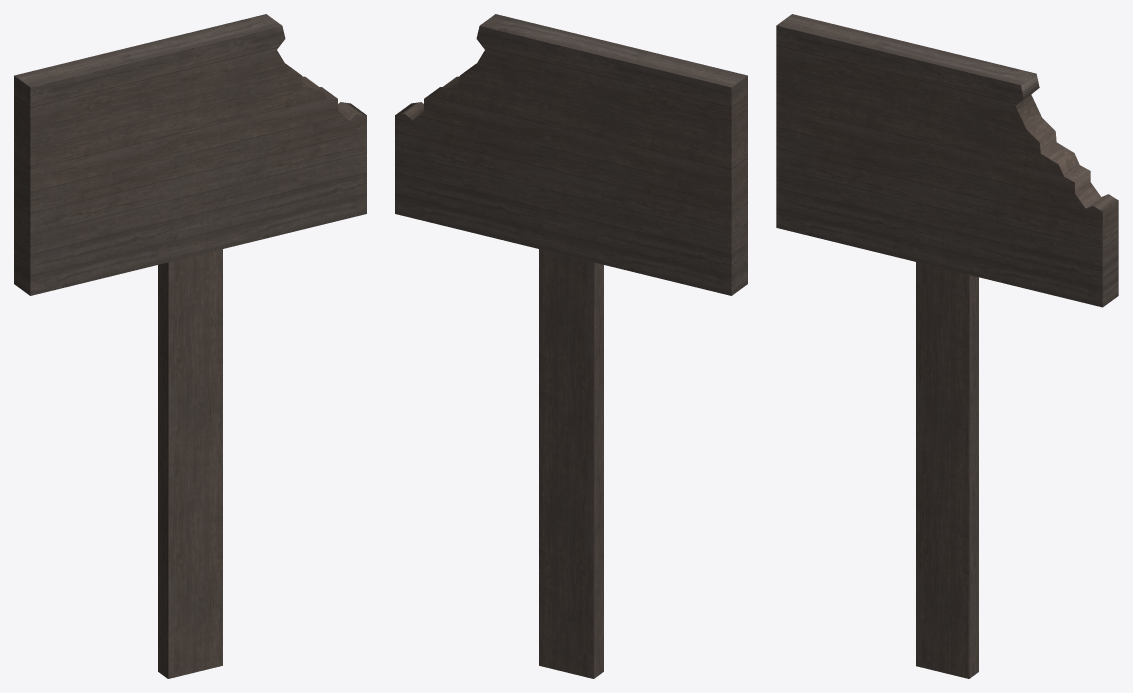
The model's file is SM_Placa_01.fbx.
The picture shows the model from 3 angles, left to right: view 1: azimuth 30°, elevation 25°; view 2: azimuth 150°, elevation 25°; view 3: azimuth 330°, elevation 25°; orthographic projection. The views are drawn at different scales.
Visible parts, largest first — view 1: pCube1; view 2: pCube1; view 3: pCube1.
Part boxes in pixels (x1,y1,x2,y2): pCube1: (14,14,366,678); pCube1: (395,14,747,678); pCube1: (776,14,1118,678).
Bounding box in the file's own units: 129 × 229 × 10.82.
